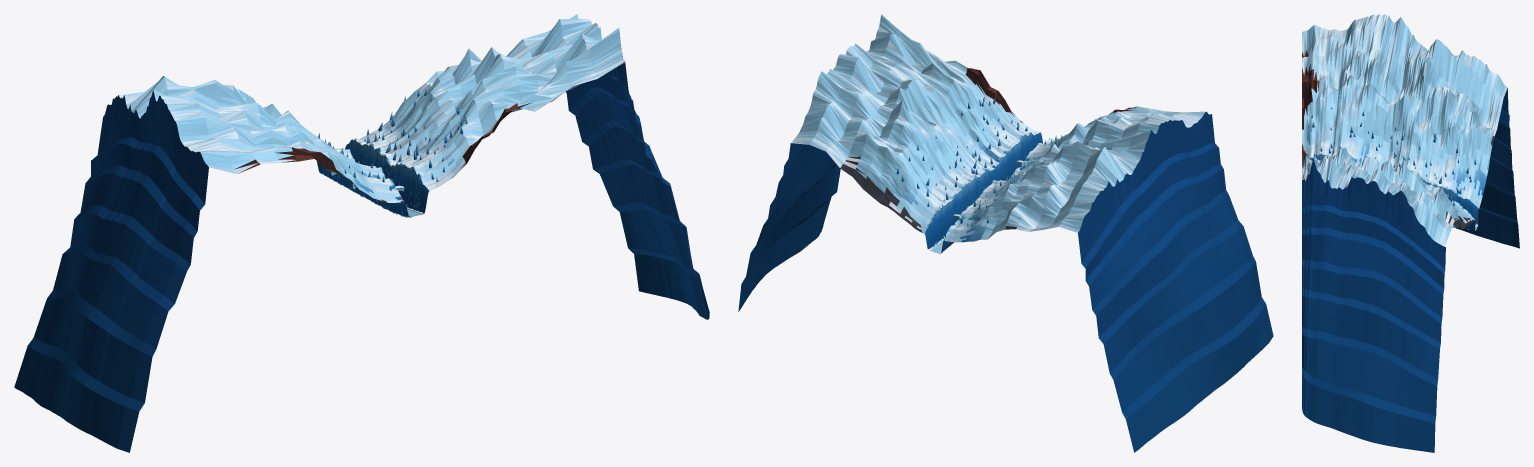
File: ss_zone2.fbx
3 views of the same model, side by side, from view 1: azimuth 30°, elevation 25°; view 2: azimuth 150°, elevation 25°; view 3: azimuth 270°, elevation 25° (orthographic). The views are drawn at different scales.
Visible parts, largest first — view 1: Z2_Terrain_R_1500, Z2_Terrain_L_1500, Z2_Terrain_L_1000, Z2_Terrain_R_1000, Z2_Shards_01; view 2: Z2_Terrain_R_1000, Z2_Terrain_R_1500, Z2_Terrain_L_1000, Z2_Terrain_L_1500, Z2_Shards_01; view 3: Z2_Terrain_L_1000, Z2_Terrain_R_1000, Z2_Terrain_L_1500, Z2_Terrain_R_1500, Z2_Shards_01.
Part boxes in pixels (left/top/right/bottom): Z2_Terrain_R_1500: left=50, top=90, right=409, bottom=452; Z2_Terrain_L_1500: left=383, top=24, right=709, bottom=319; Z2_Terrain_L_1000: left=345, top=14, right=696, bottom=310; Z2_Terrain_R_1000: left=14, top=76, right=360, bottom=410; Z2_Shards_01: left=318, top=89, right=467, bottom=217; Z2_Terrain_R_1000: left=939, top=141, right=1197, bottom=452; Z2_Terrain_R_1500: left=1006, top=106, right=1273, bottom=403; Z2_Terrain_L_1000: left=738, top=46, right=986, bottom=311; Z2_Terrain_L_1500: left=788, top=14, right=1042, bottom=258; Z2_Shards_01: left=896, top=96, right=1062, bottom=250; Z2_Terrain_L_1000: left=1345, top=157, right=1475, bottom=452; Z2_Terrain_R_1000: left=1393, top=39, right=1519, bottom=248; Z2_Terrain_L_1500: left=1302, top=147, right=1371, bottom=432; Z2_Terrain_R_1500: left=1302, top=14, right=1420, bottom=168; Z2_Shards_01: left=1311, top=107, right=1476, bottom=229.
Bounding box in the file's own units: 2857 × 1566 × 1200.
1 material, 1 textured.
